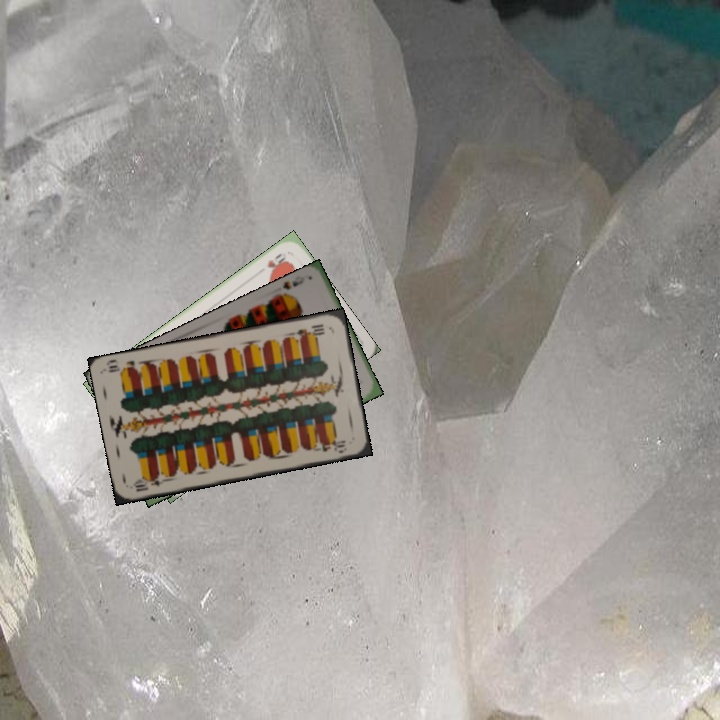E10: (129, 471, 168, 494), (293, 320, 327, 340)
HO: (263, 249, 288, 274)
S9: (272, 272, 307, 302)
